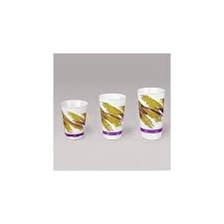paper_cup: (133, 83, 168, 142), (95, 90, 129, 143), (56, 95, 92, 143)
